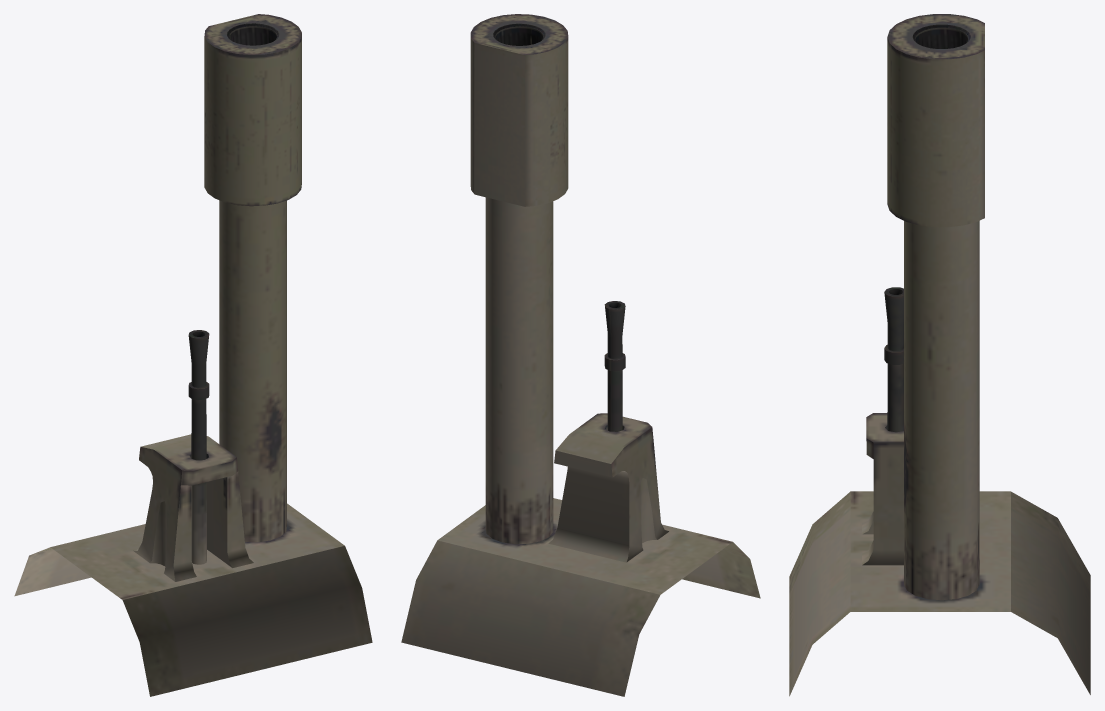
The model's file is Gun_06.glb.
3 renders of one model, left to right at view 1: azimuth 30°, elevation 25°; view 2: azimuth 150°, elevation 25°; view 3: azimuth 270°, elevation 25°, orthographic. The views are drawn at different scales.
Visible parts, largest first — view 1: set_0_group_0; view 2: set_0_group_0; view 3: set_0_group_0.
Part boxes in pixels (<box>): set_0_group_0: <box>14,14,372,696</box>; set_0_group_0: <box>401,14,760,696</box>; set_0_group_0: <box>789,14,1090,696</box>.
Size of the model in its own units: 0.5352 by 1.31 by 0.5654.
Materials: 1 (1 with a texture image).
